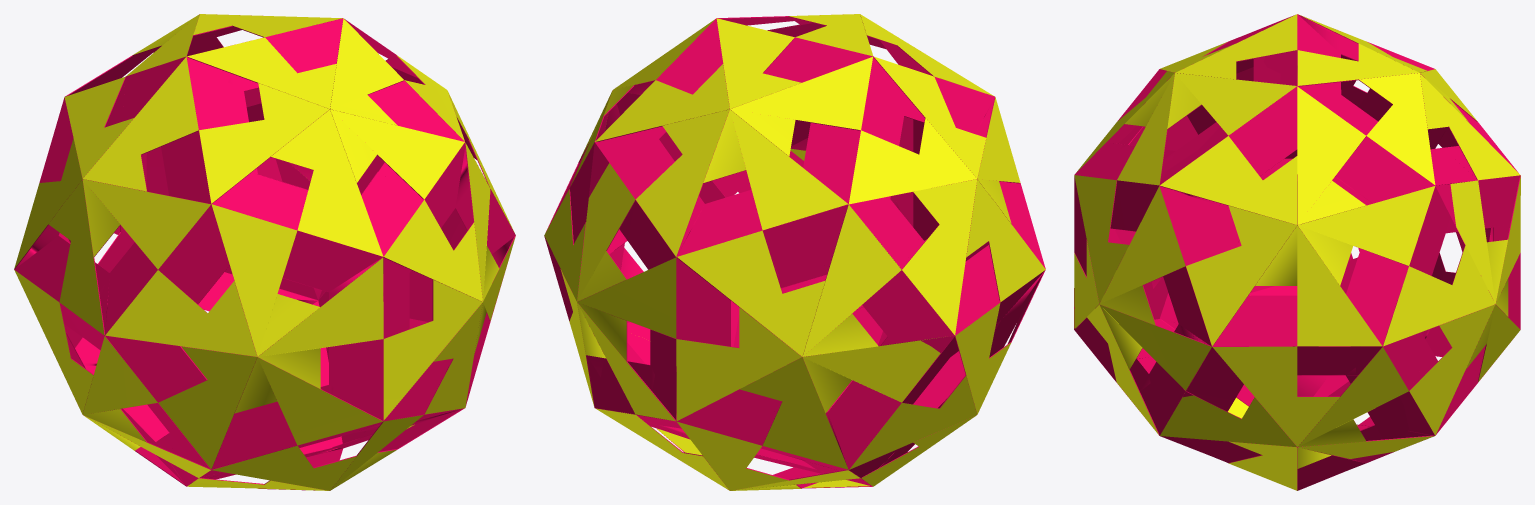
The model's file is PentakisDodecahedronS1.glb.
3 renders of one model, left to right at view 1: azimuth 30°, elevation 25°; view 2: azimuth 150°, elevation 25°; view 3: azimuth 270°, elevation 25°, orthographic. The views are drawn at different scales.
Parts seen in each view (by area): view 1: root; view 2: root; view 3: root.
Part boxes in pixels (x1,y1,x2,y2): root: (14, 14, 515, 490); root: (544, 14, 1045, 490); root: (1074, 14, 1520, 490).
Size of the model in its own units: 8.73 by 8.74 by 8.73.
